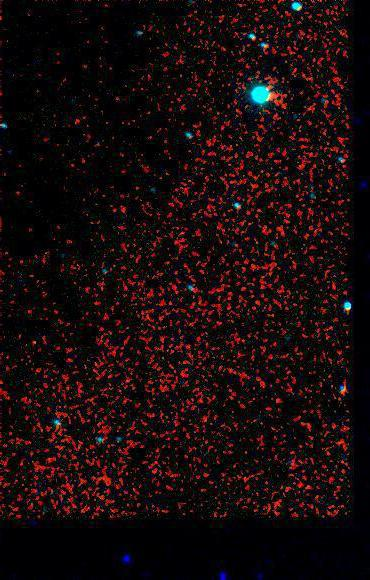star: (22, 329, 52, 359)
